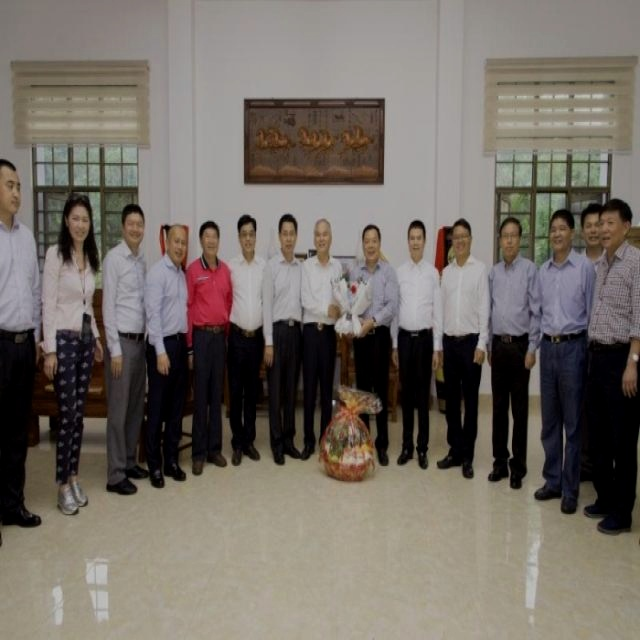Sin_Casco_Mascarrilla: (122, 204, 146, 245), (499, 218, 522, 260), (313, 218, 333, 259), (237, 213, 256, 256), (200, 218, 220, 258), (408, 219, 427, 259)
Sin_Chaleco: (539, 253, 595, 334), (440, 256, 488, 340), (144, 260, 188, 343), (263, 253, 303, 328)
